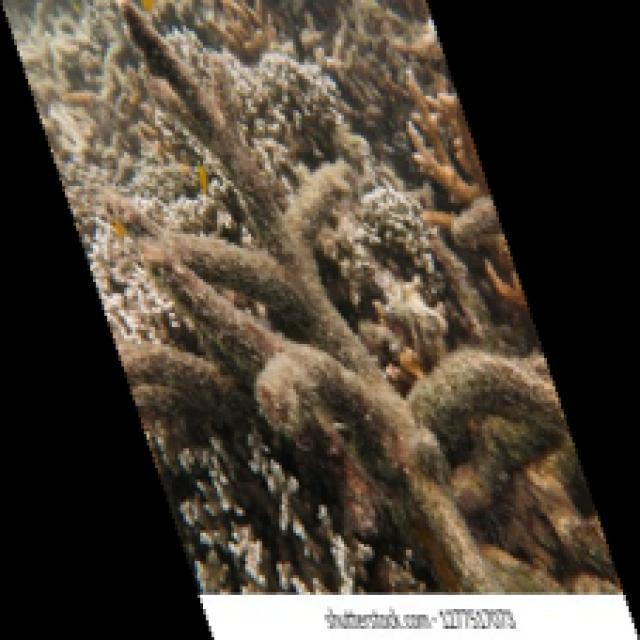Dead Coral: (109, 24, 528, 572)
